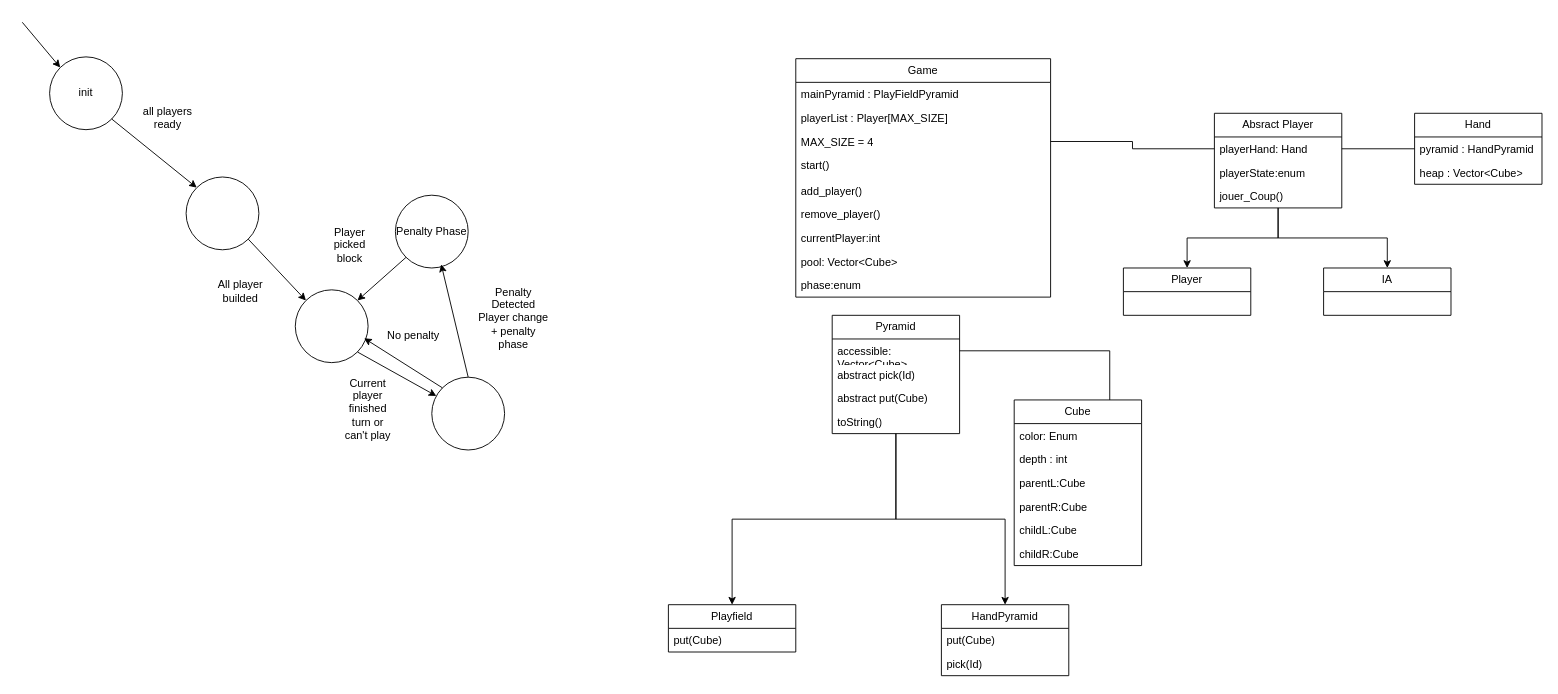
The diagram is 1558 pixels wide and 694 high, and some of its shapes have lost their labels. Here are the shapes that lost their labels. From the top down, the centre of each, then its label:
[222,213]: Building phase
[331,326]: Main Phase
[468,413]: Turn Change
